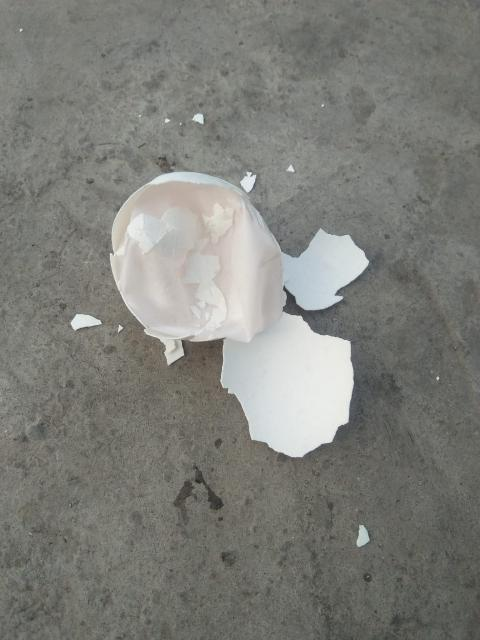Roto: (108, 170, 287, 364), (219, 310, 354, 458), (281, 227, 370, 312)
